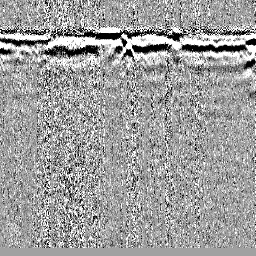cavity: (120, 40, 135, 60)
